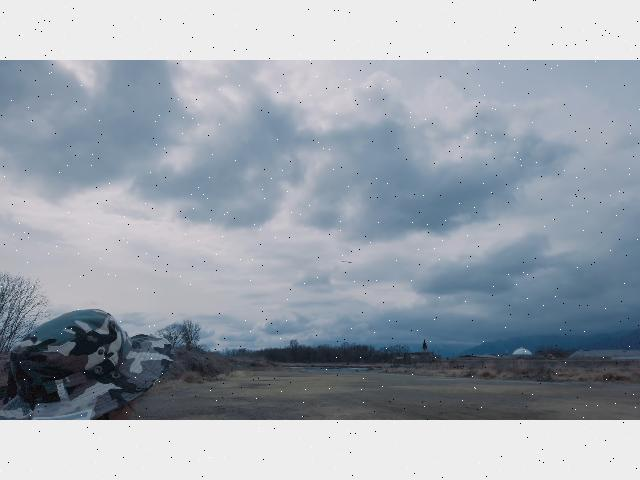Anti-Drone: (337, 256, 355, 268)
